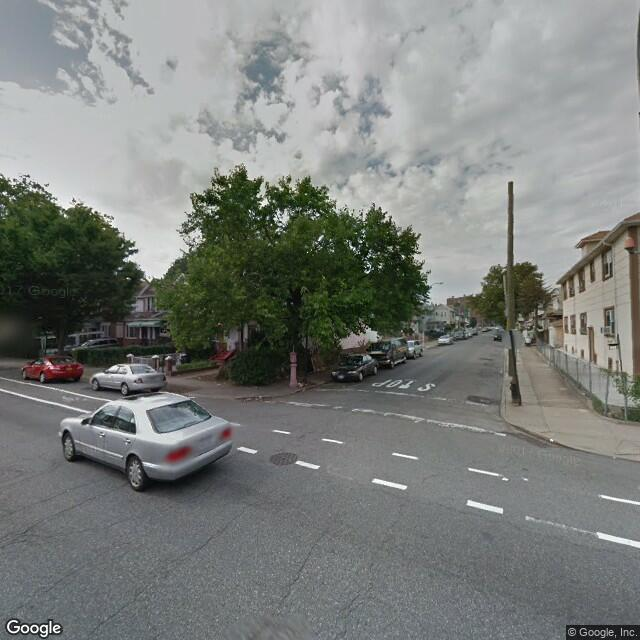litter: (548, 435, 557, 445)
